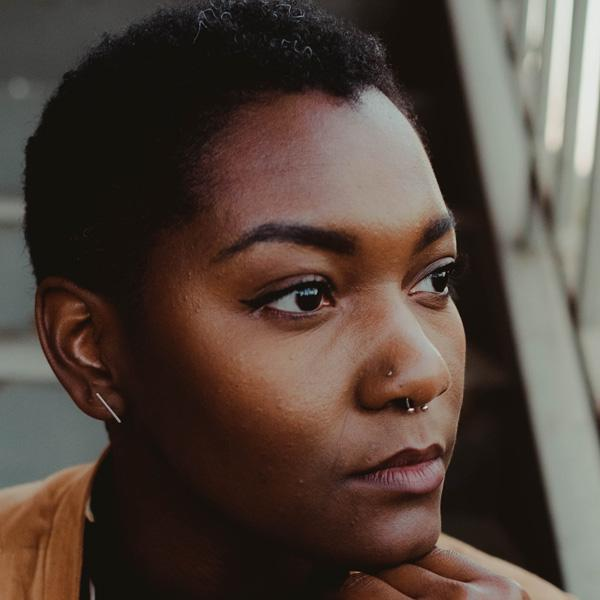Eyes: (234, 266, 349, 332), (392, 247, 462, 316)
